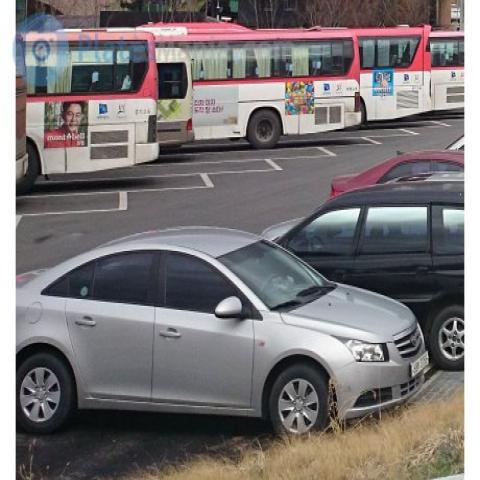LP: (399, 339, 433, 389)
